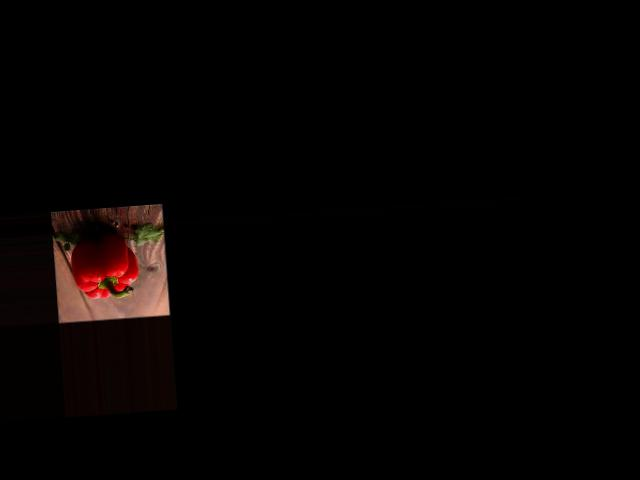bell_pepper: (65, 229, 144, 306)
